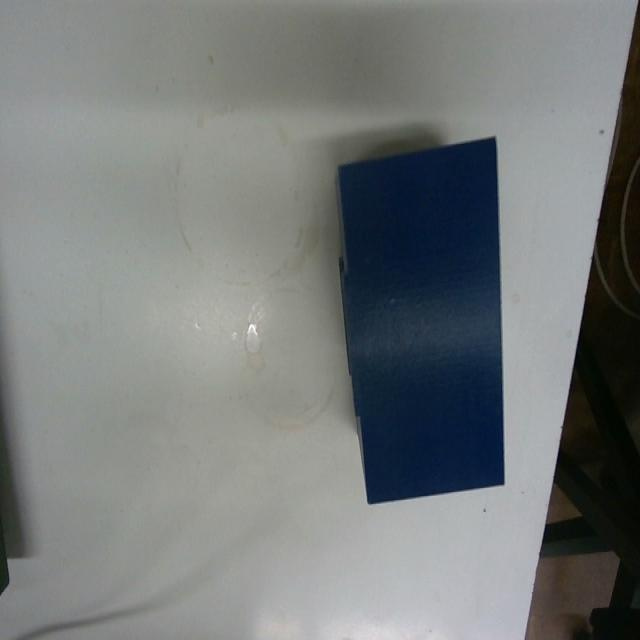Blue Cuboid: (333, 132, 507, 505)
